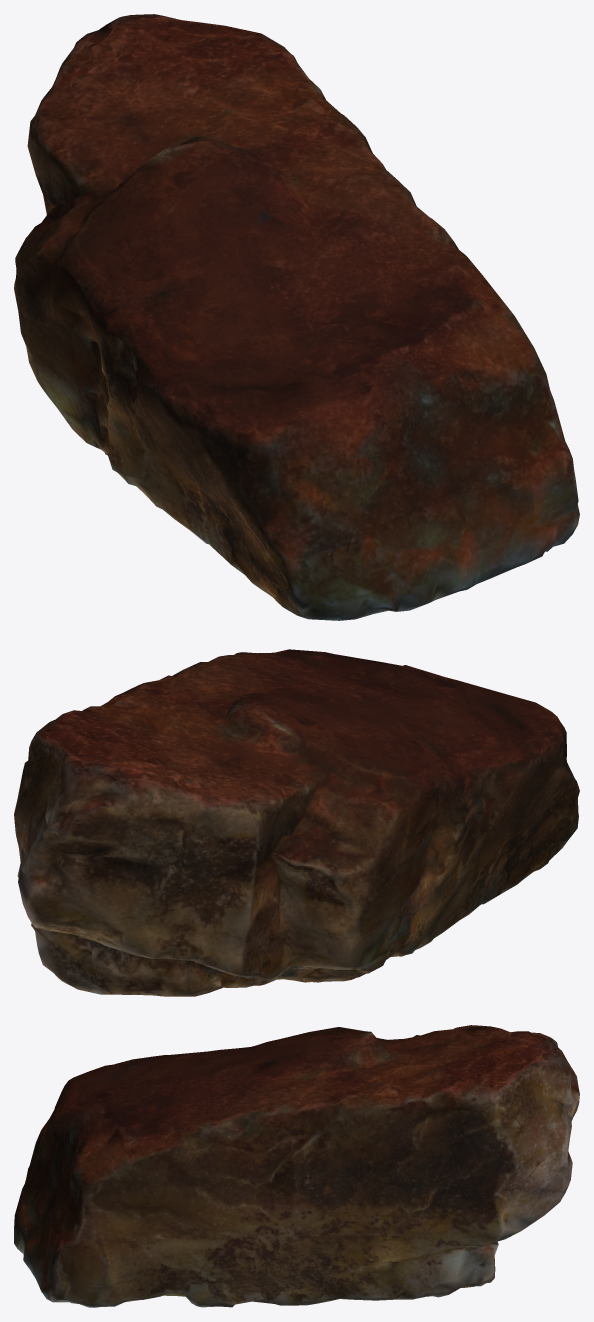
File: rock_07.glb
3 views of the same model, one above another, from view 1: azimuth 30°, elevation 25°; view 2: azimuth 150°, elevation 25°; view 3: azimuth 270°, elevation 25° (orthographic). The views are drawn at different scales.
Parts seen in each view (by area): view 1: rock_07; view 2: rock_07; view 3: rock_07.
Boxes of the visible parts, left/top/right/bottom form: rock_07: left=14, top=14, right=579, bottom=620; rock_07: left=14, top=649, right=579, bottom=996; rock_07: left=14, top=1025, right=579, bottom=1307.
Bounding box in the file's own units: 0.1686 × 0.1437 × 0.3199.
Materials: 1 (1 with a texture image).
